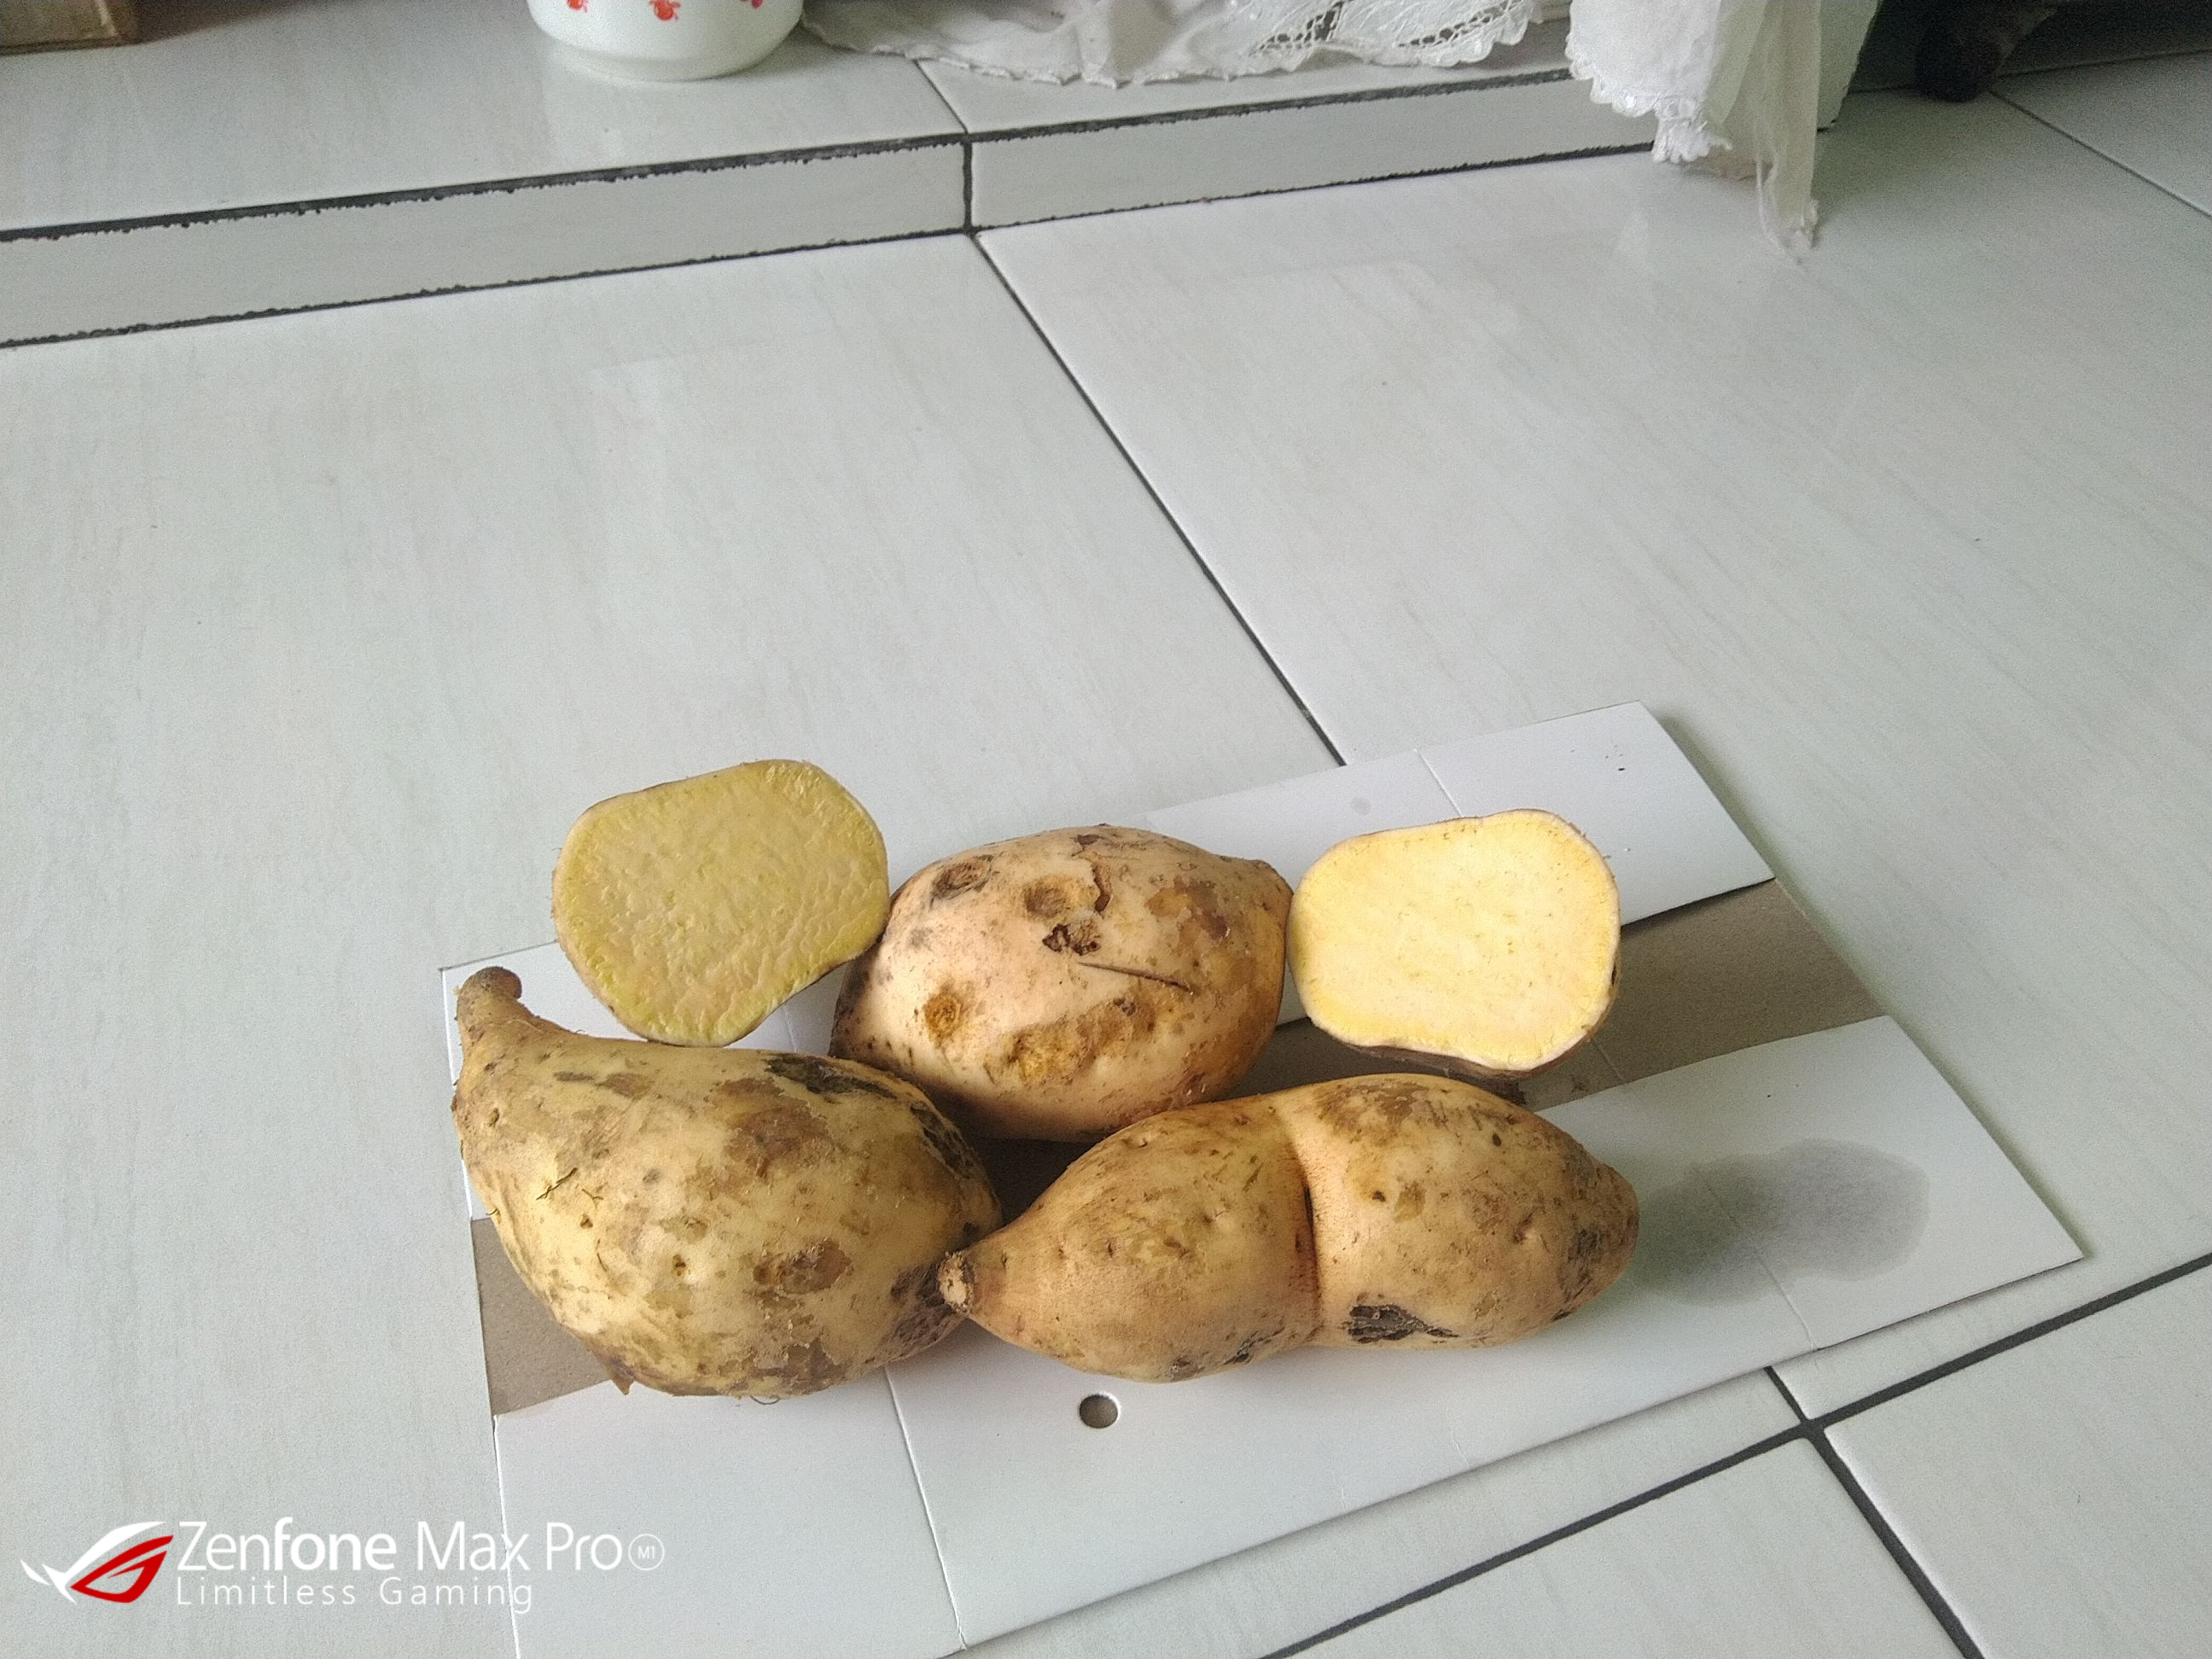ubi kuning: (444, 742, 1651, 1398), (934, 1082, 1681, 1415), (434, 965, 1008, 1398), (819, 810, 1298, 1129), (1280, 788, 1637, 1080), (542, 749, 895, 1039)
